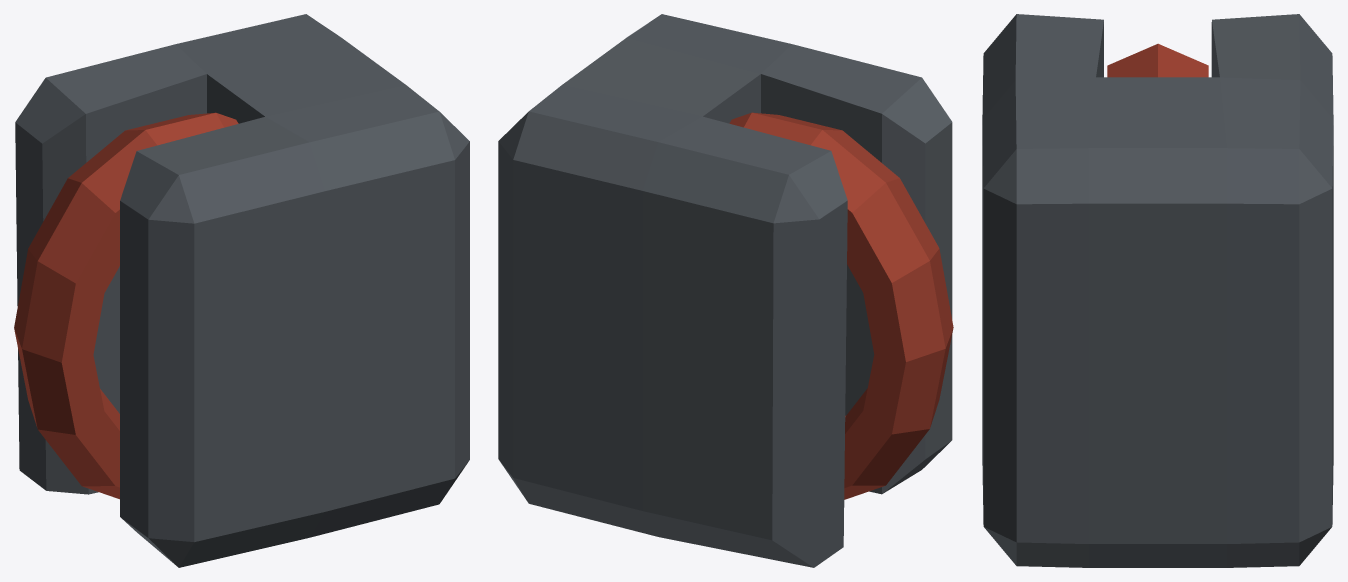
The model's file is Mothership_02_Detail_9_Red.fbx.
3 views of the same model, side by side, from view 1: azimuth 30°, elevation 25°; view 2: azimuth 150°, elevation 25°; view 3: azimuth 270°, elevation 25° (orthographic). The views are drawn at different scales.
Visible parts, largest first — view 1: Mothership_02_Detail_9_Red; view 2: Mothership_02_Detail_9_Red; view 3: Mothership_02_Detail_9_Red.
Part boxes in pixels (x1,y1,x2,y2): Mothership_02_Detail_9_Red: (14, 14, 469, 567); Mothership_02_Detail_9_Red: (498, 14, 953, 567); Mothership_02_Detail_9_Red: (982, 14, 1333, 567).
Bounding box in the file's own units: 210 × 208 × 158.
1 material, 1 textured.
